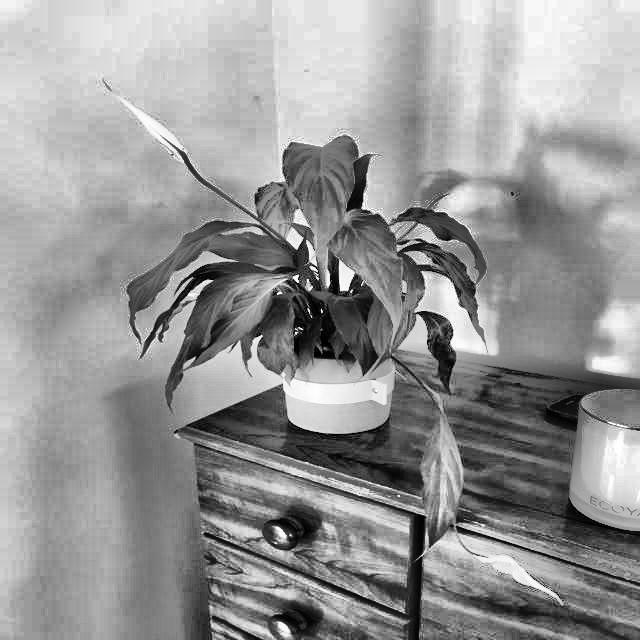plants: (119, 71, 547, 602), (365, 339, 475, 552)
